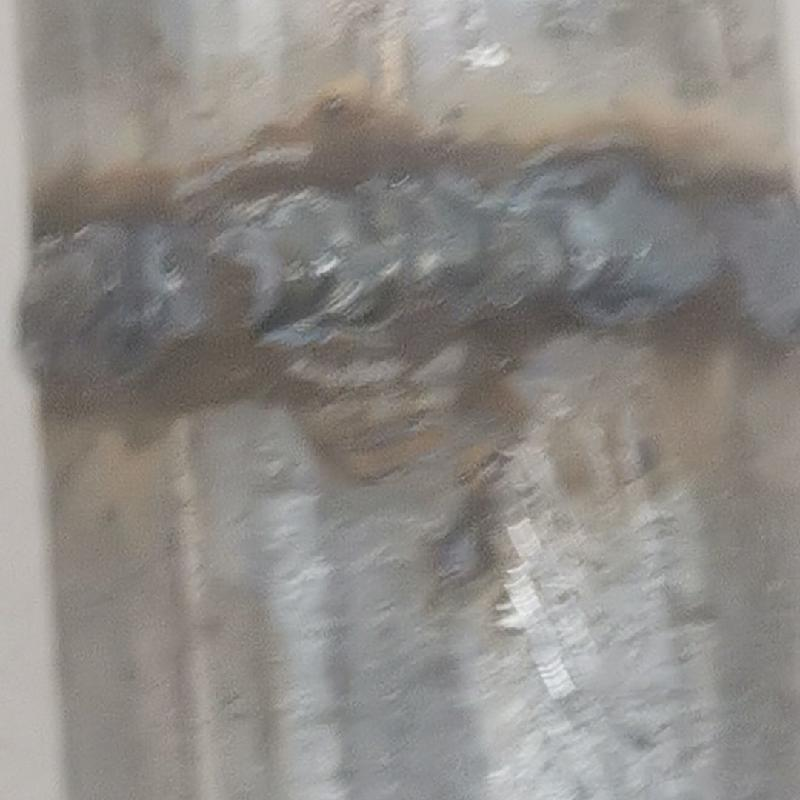good: (8, 165, 799, 362)
